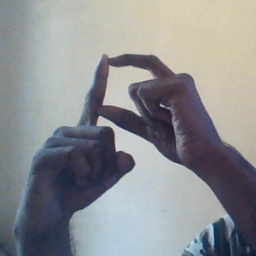D: (38, 46, 215, 172)
